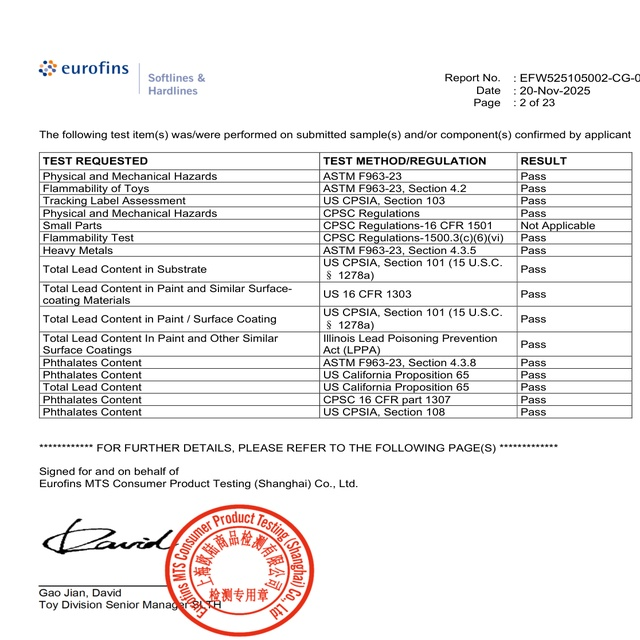eurofins: (36, 55, 132, 79)
